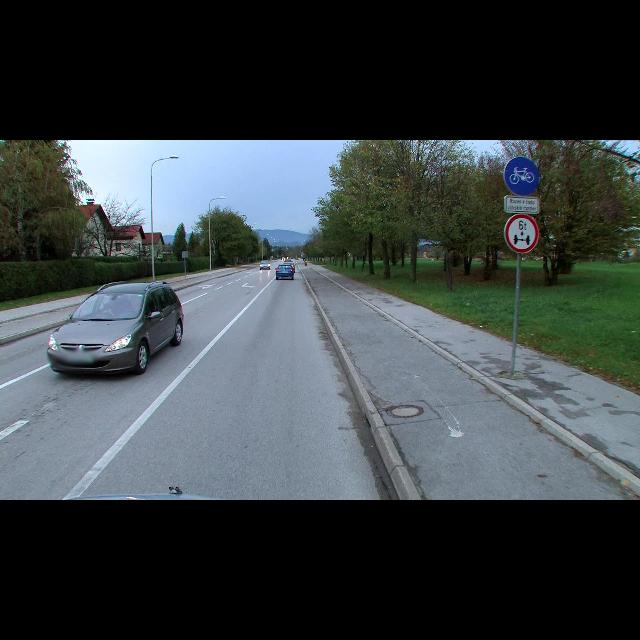Rectangle: (504, 197, 540, 216)
Round: (504, 214, 540, 256), (504, 157, 540, 195)
